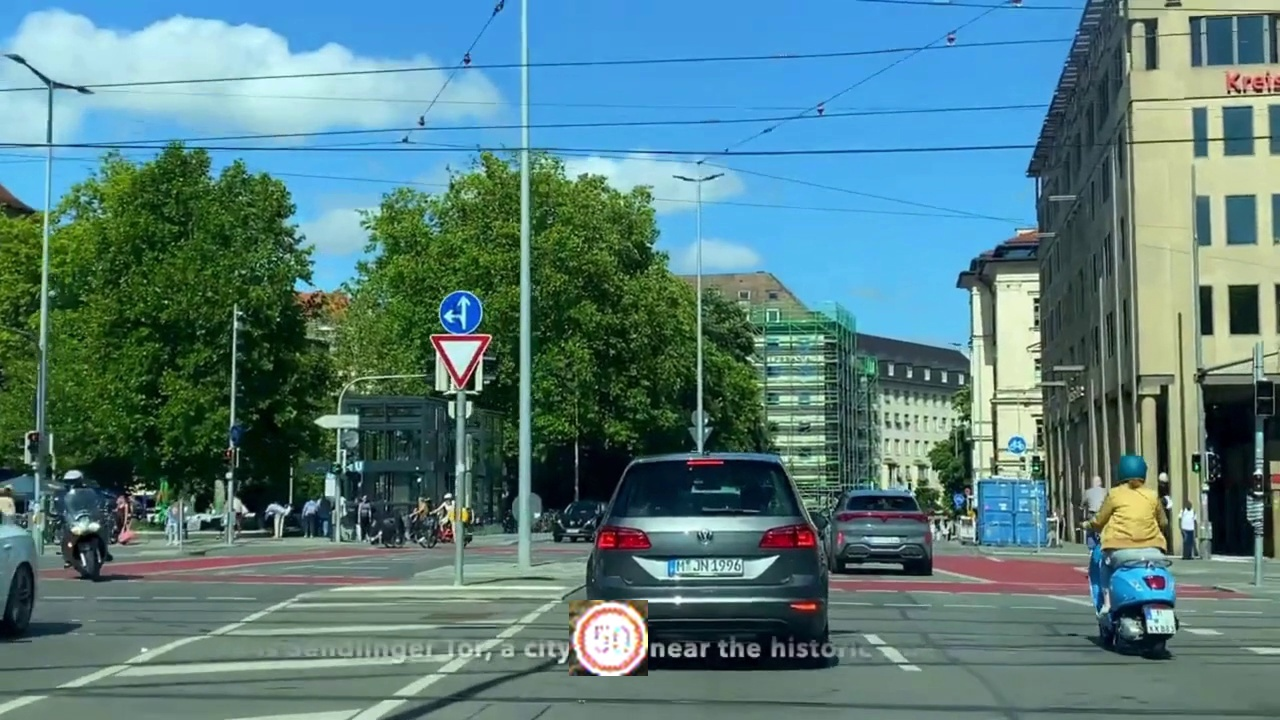Speed 50: (569, 600, 648, 676)
